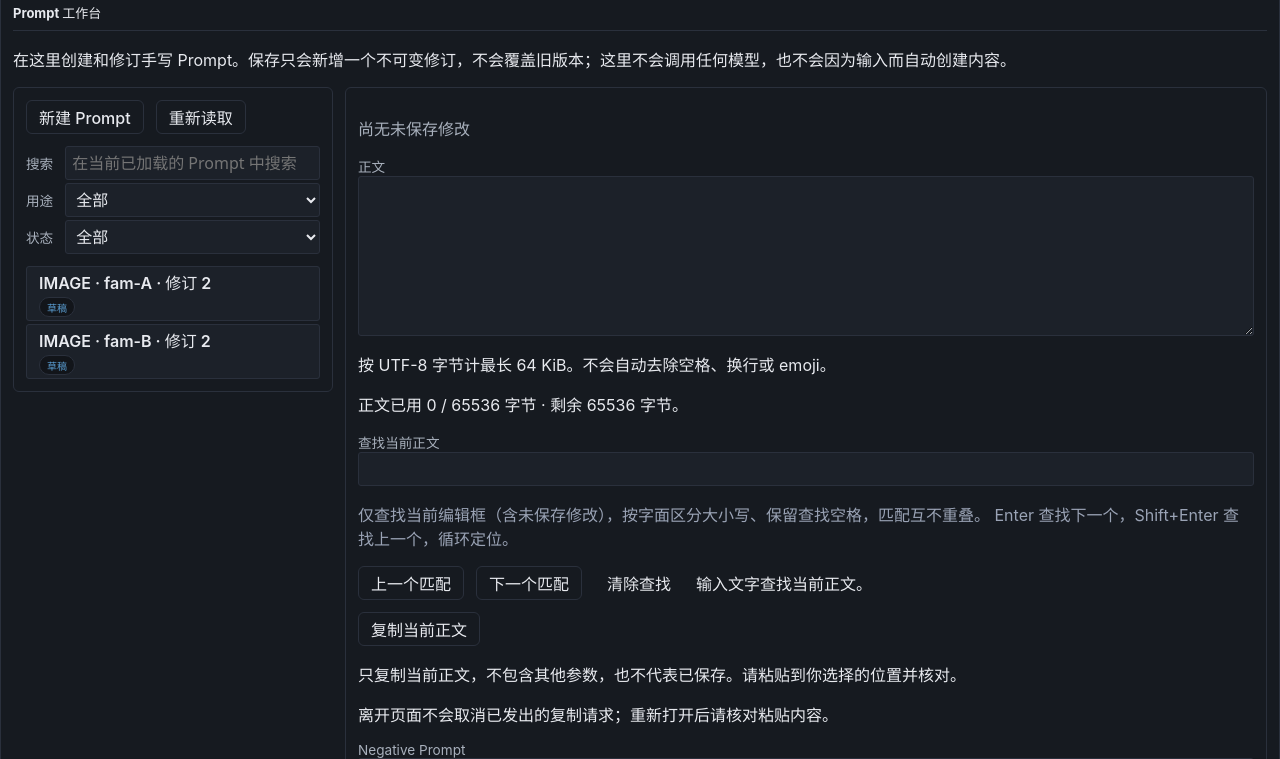
P0-1 B 的详情尚未返回时，A 的保存后刷新不得废弃 B 的选择 › 最终显示 B，而不是被 A 的刷新带回 A
Click the button "IMAGE · fam-A · 修订 2 草稿".
click(173, 294)  # box [26,266,320,321]
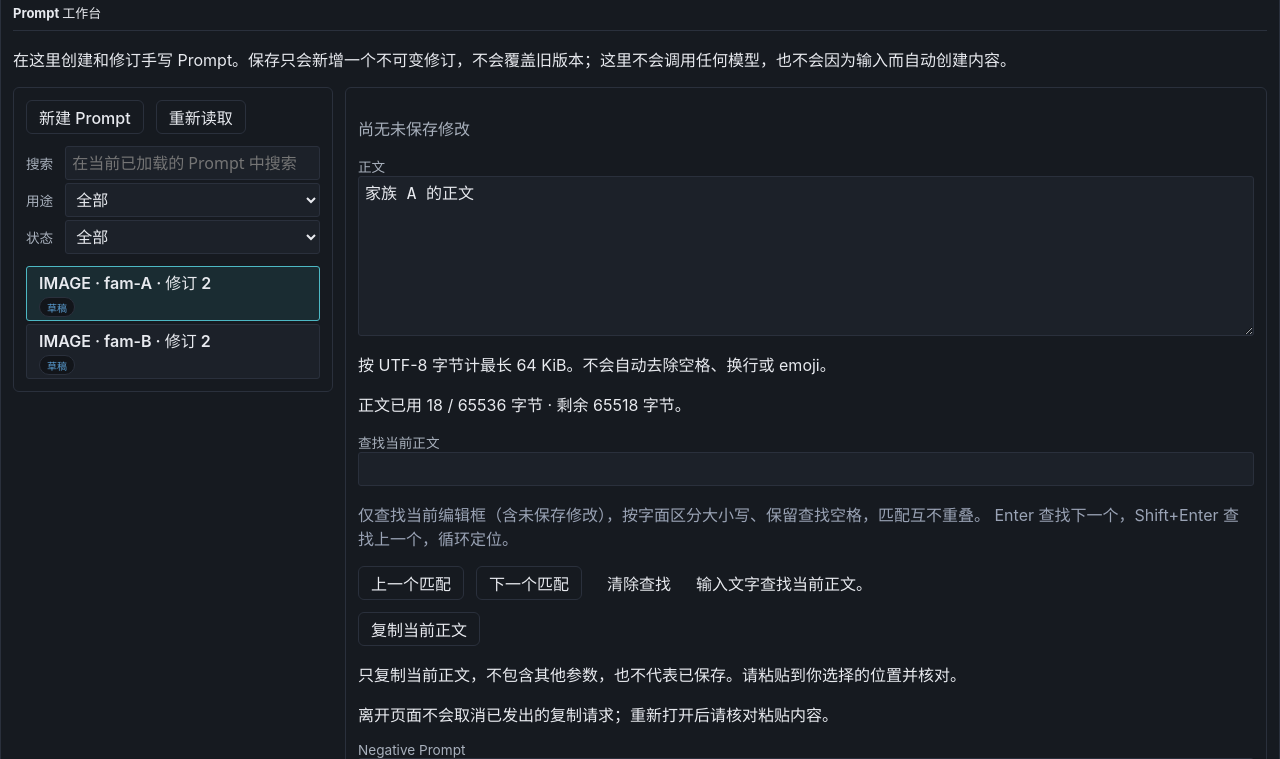
Replace the text in the text box labelled "正文" with "A 的修改" at [806, 256], box [358,176,1254,336]
(page scrolled)
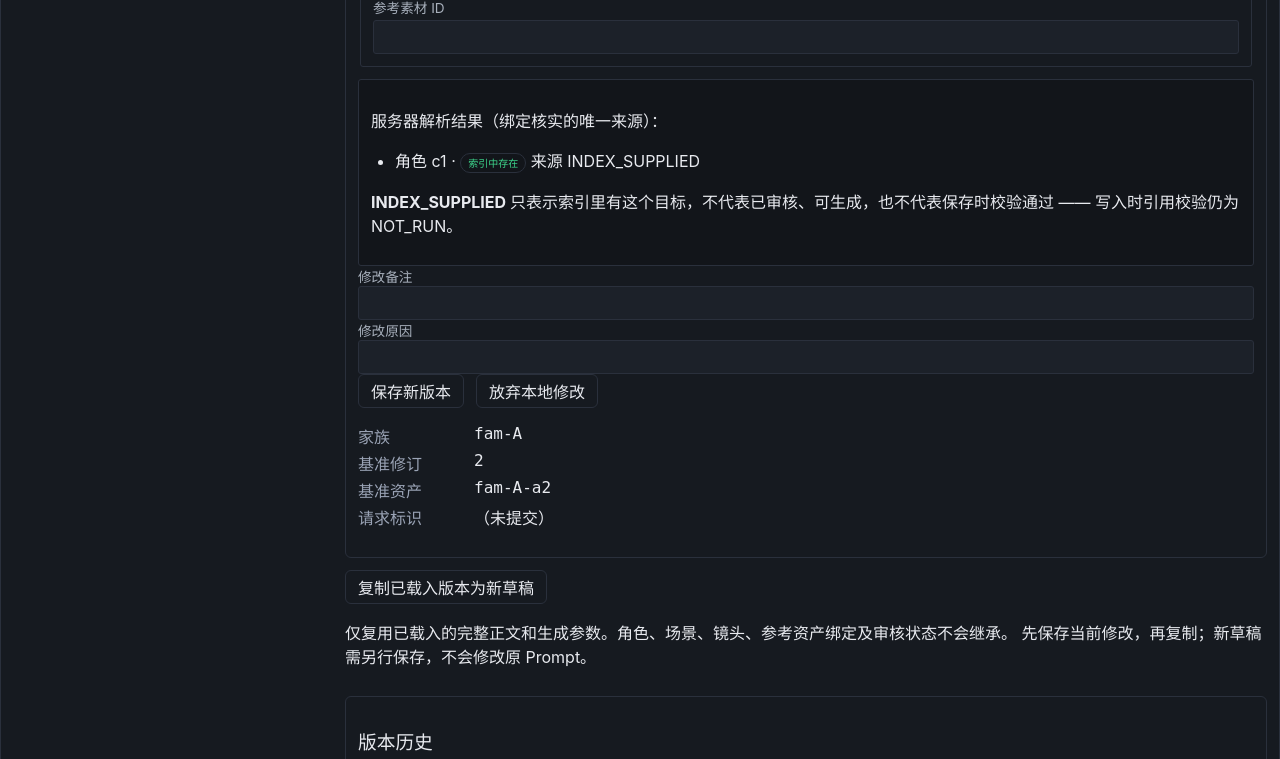
Click the button "保存新版本".
click(411, 390)  # box [358,374,464,408]
(page scrolled)
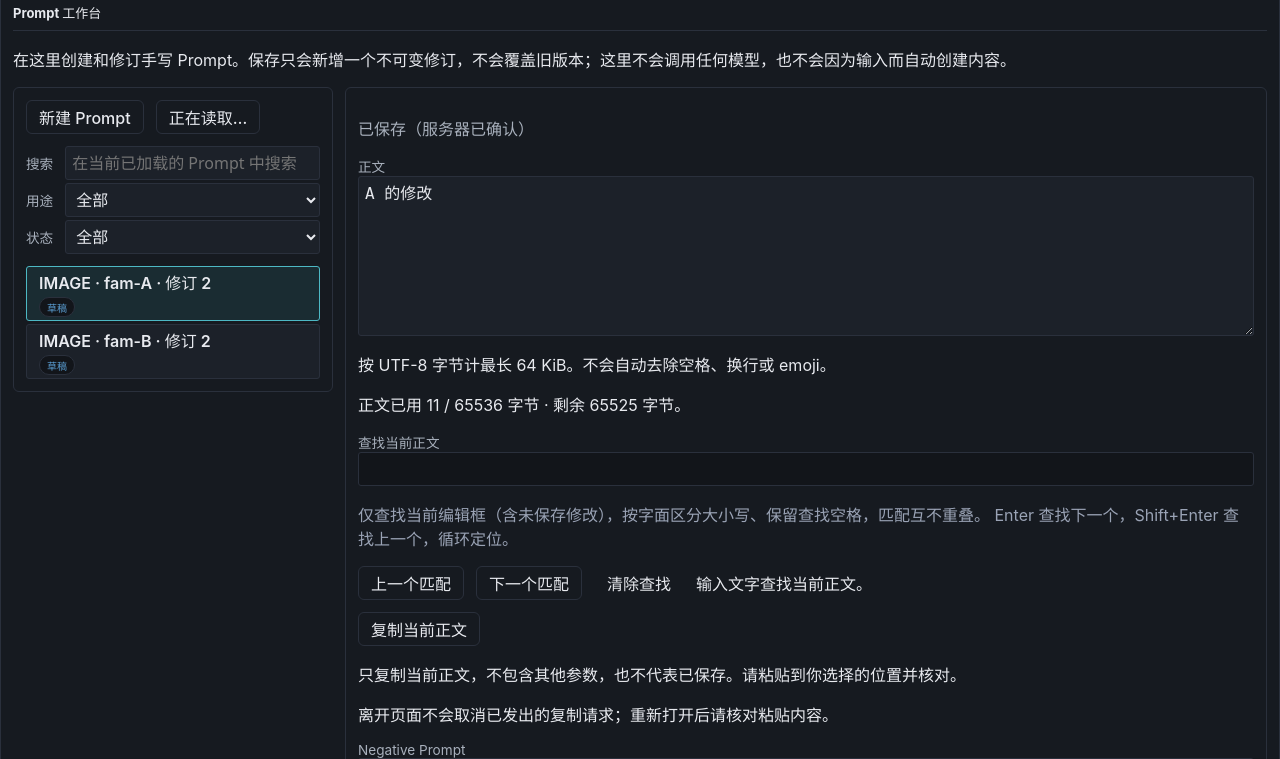
# 用户在 A 的保存后刷新尚未返回时开始切到 B；B 的详情请求被挂起。
Click the button "IMAGE · fam-B · 修订 2 草稿".
click(173, 352)  # box [26,324,320,379]
(page scrolled)
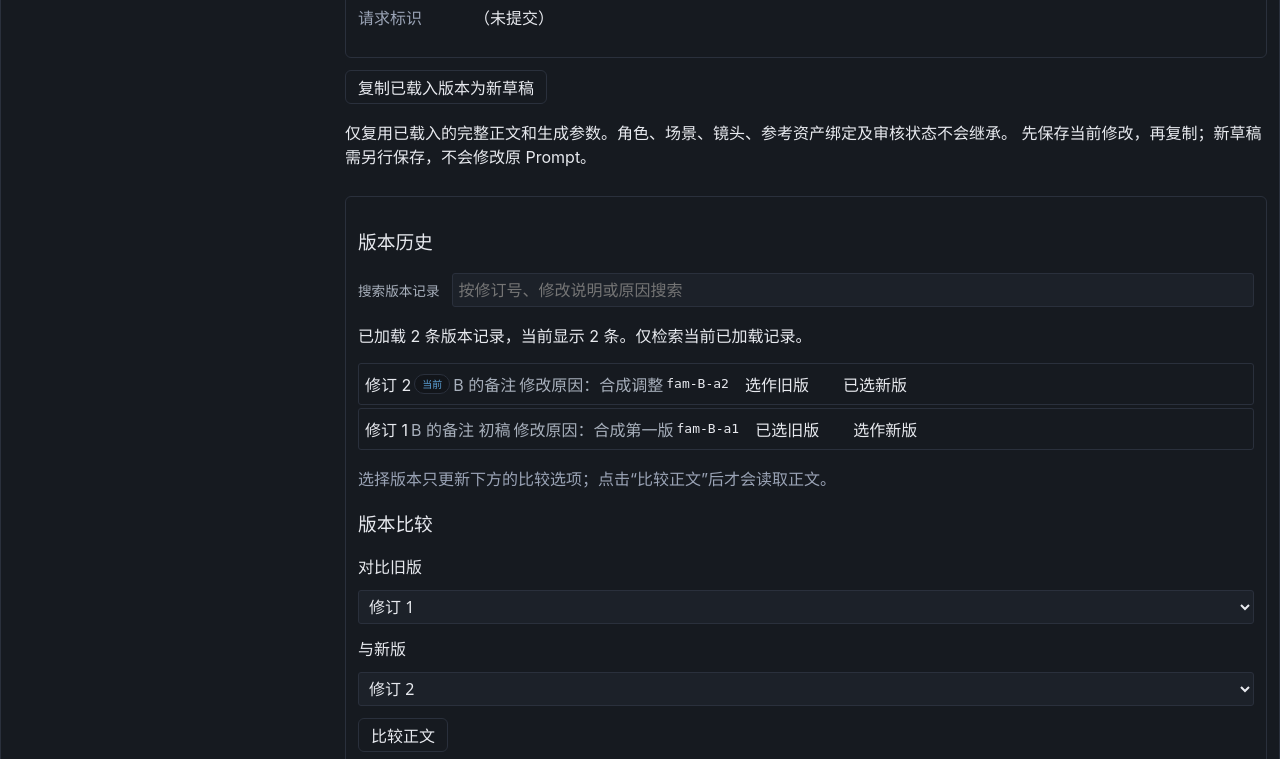
Result: the element named "版本历史" shows "fam-B-a1" at [676,421,739,436]
